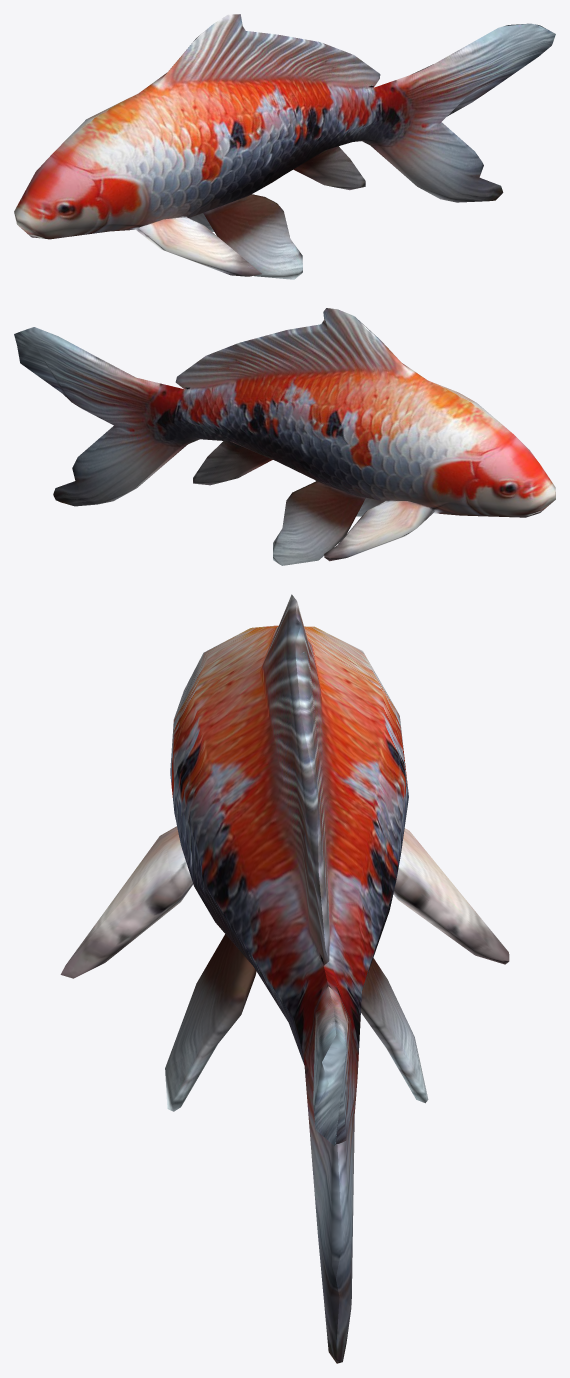
Rendered from koifish.fbx.
The picture shows the model from 3 angles, top to bottom: view 1: azimuth 30°, elevation 25°; view 2: azimuth 150°, elevation 25°; view 3: azimuth 270°, elevation 25°; orthographic projection. The views are drawn at different scales.
Parts seen in each view (by area): view 1: koifish; view 2: koifish; view 3: koifish.
Boxes of the visible parts, box(x1,y1,x2,y2) form: koifish: box(14, 14, 555, 279); koifish: box(14, 308, 555, 565); koifish: box(60, 594, 509, 1363).
Size of the model in its own units: 639 by 289 by 234.
